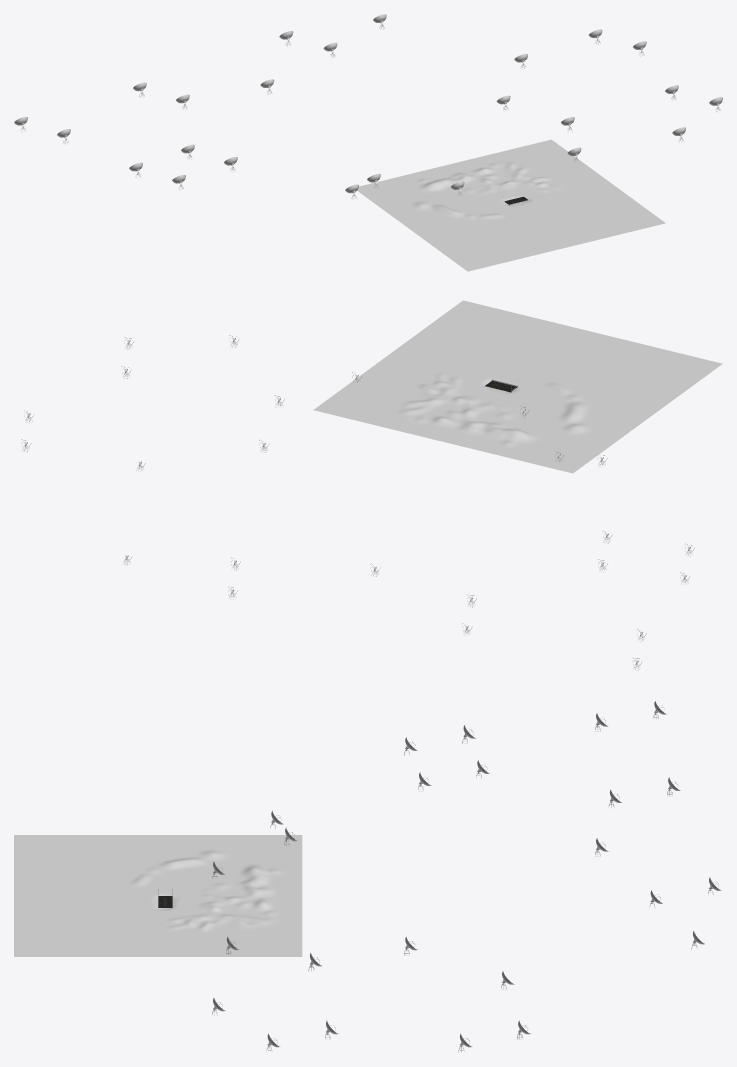
Rendered from zombie-demo-map.gltf.
3 renders of one model, top to bottom at view 1: azimuth 30°, elevation 25°; view 2: azimuth 150°, elevation 25°; view 3: azimuth 270°, elevation 25°, orthographic. The views are drawn at different scales.
Visible parts, largest first — view 1: terrain; view 2: terrain; view 3: terrain.
Boxes of the visible parts, x1,y1,x2,y2 form: terrain: (357,139,665,271); terrain: (313,300,722,473); terrain: (14,835,302,956).
Bounding box in the file's own units: 559 × 15.24 × 492.
Materials: 6 (5 with a texture image).
